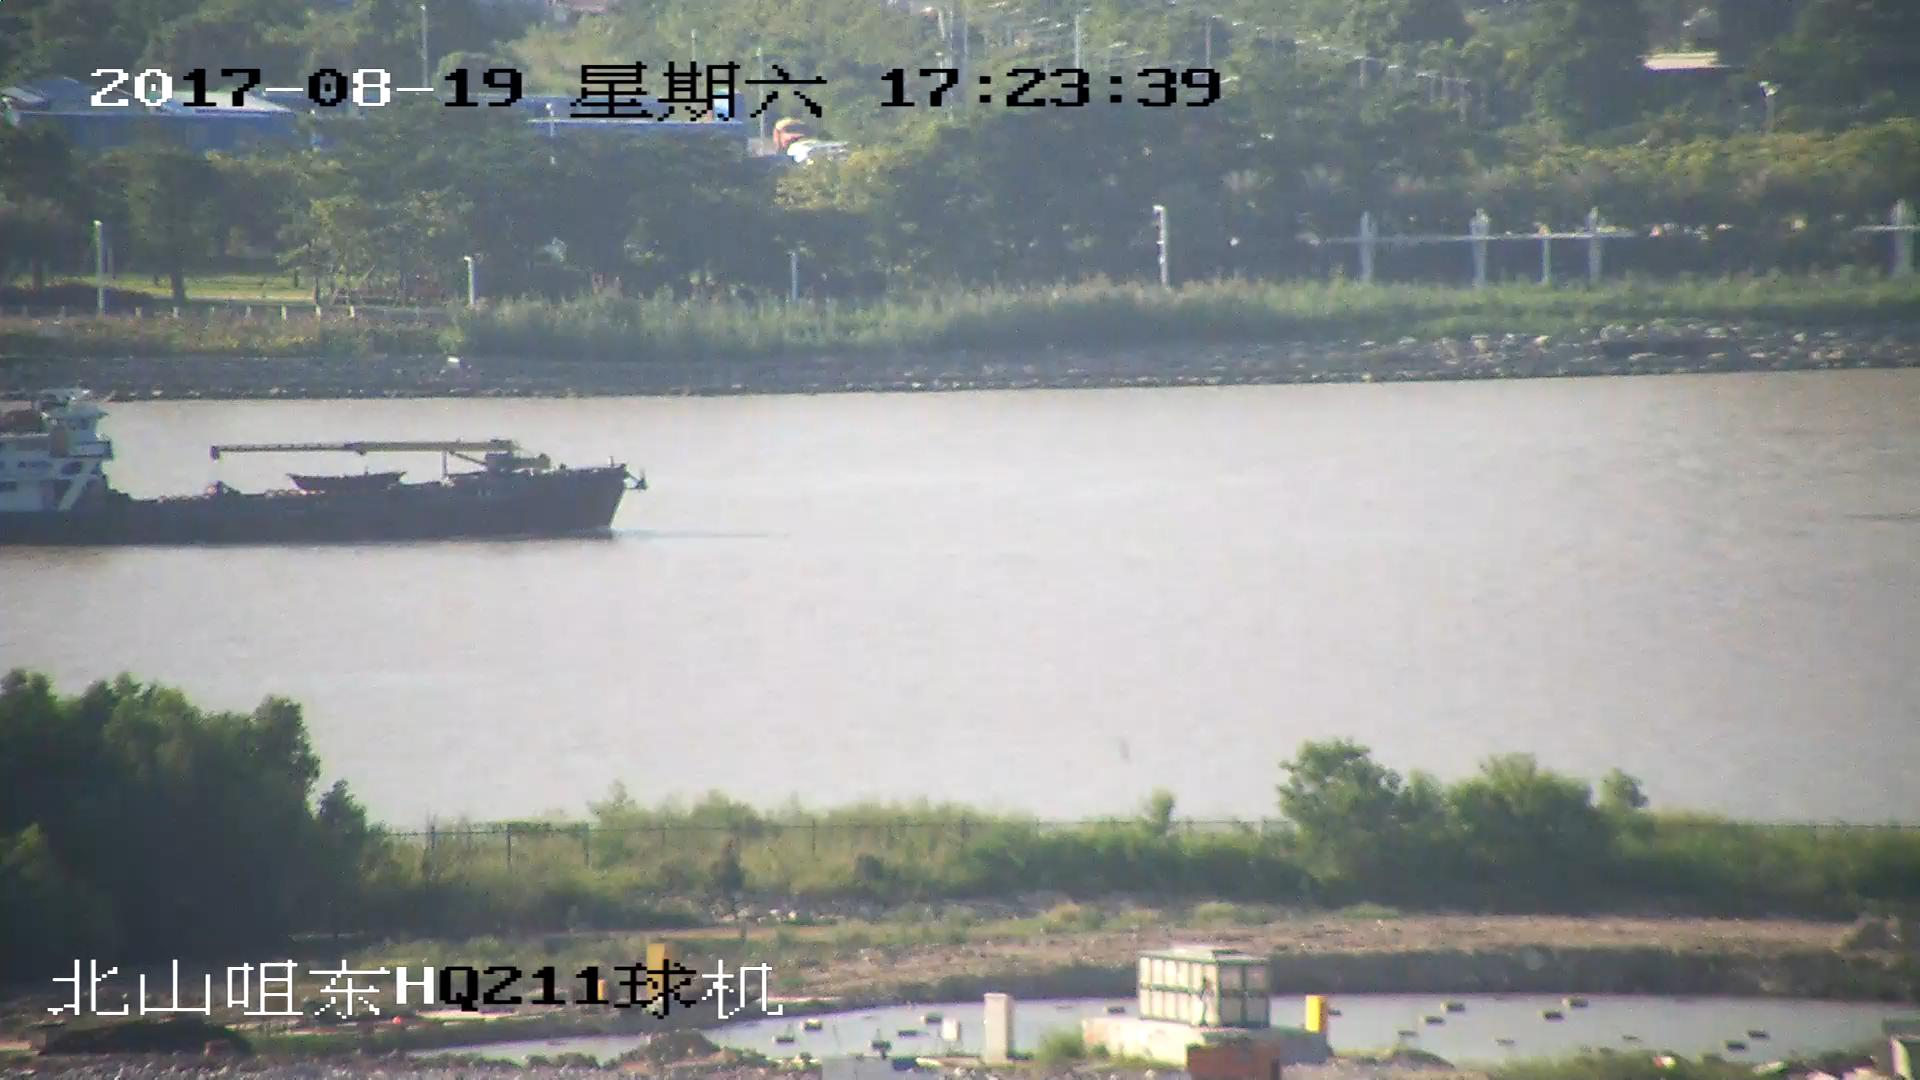bulk cargo carrier: (1, 386, 644, 536)
